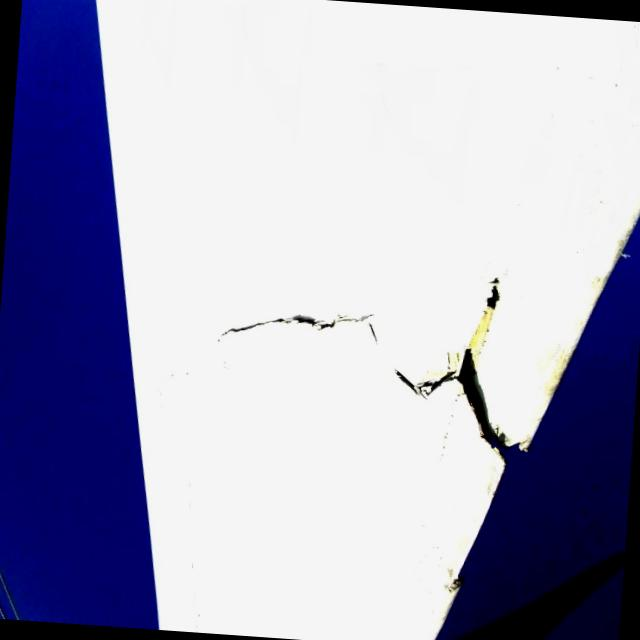crack: (392, 272, 542, 462), (216, 296, 384, 357)
